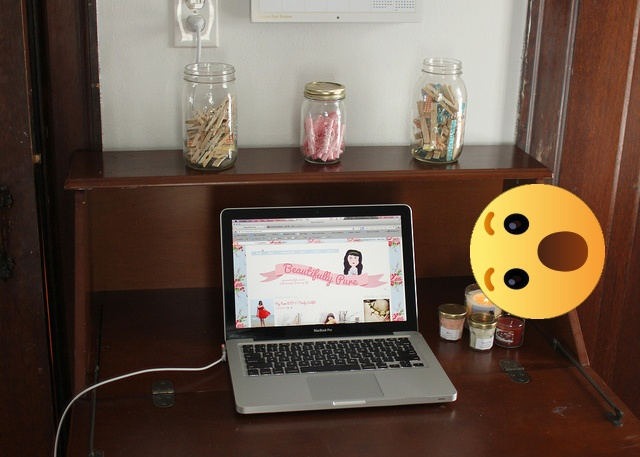wow: (470, 184, 605, 319)
